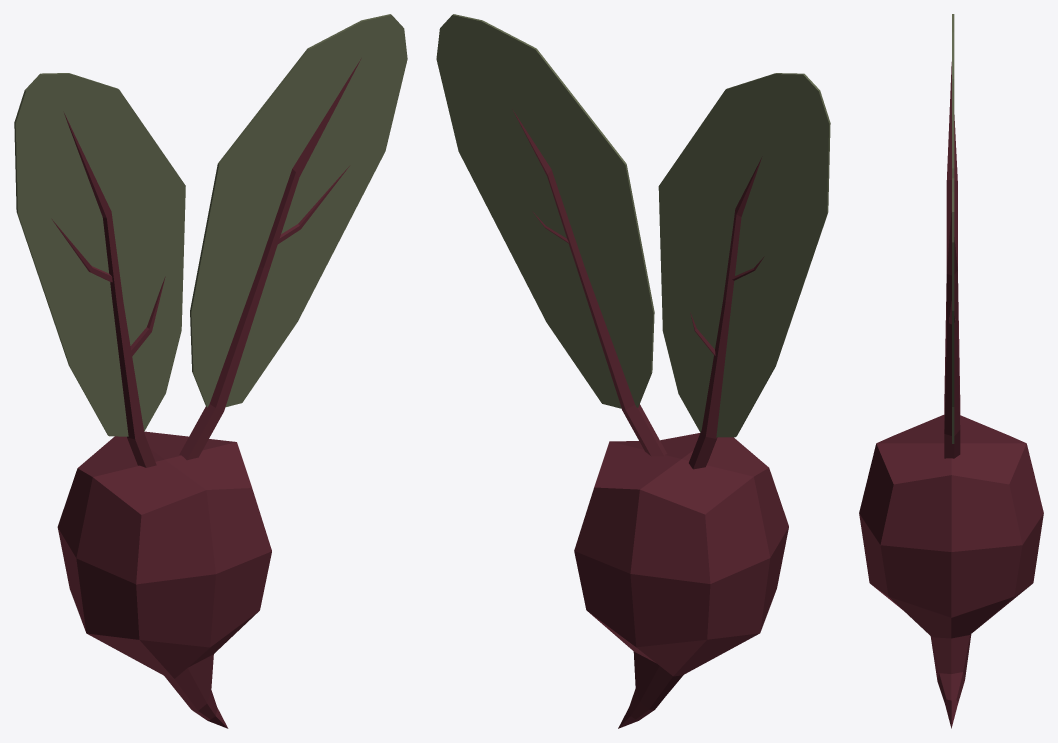
File: Beet_3.glb
The picture shows the model from 3 angles, left to right: view 1: azimuth 30°, elevation 25°; view 2: azimuth 150°, elevation 25°; view 3: azimuth 270°, elevation 25°; orthographic projection. The views are drawn at different scales.
Visible parts, largest first — view 1: Beet_3_Cube; view 2: Beet_3_Cube; view 3: Beet_3_Cube.
Part boxes in pixels (<box>): Beet_3_Cube: <box>14,14,407,728</box>; Beet_3_Cube: <box>436,14,830,728</box>; Beet_3_Cube: <box>859,14,1043,728</box>.
Size of the model in its own units: 0.5093 by 0.8688 by 0.2301.
